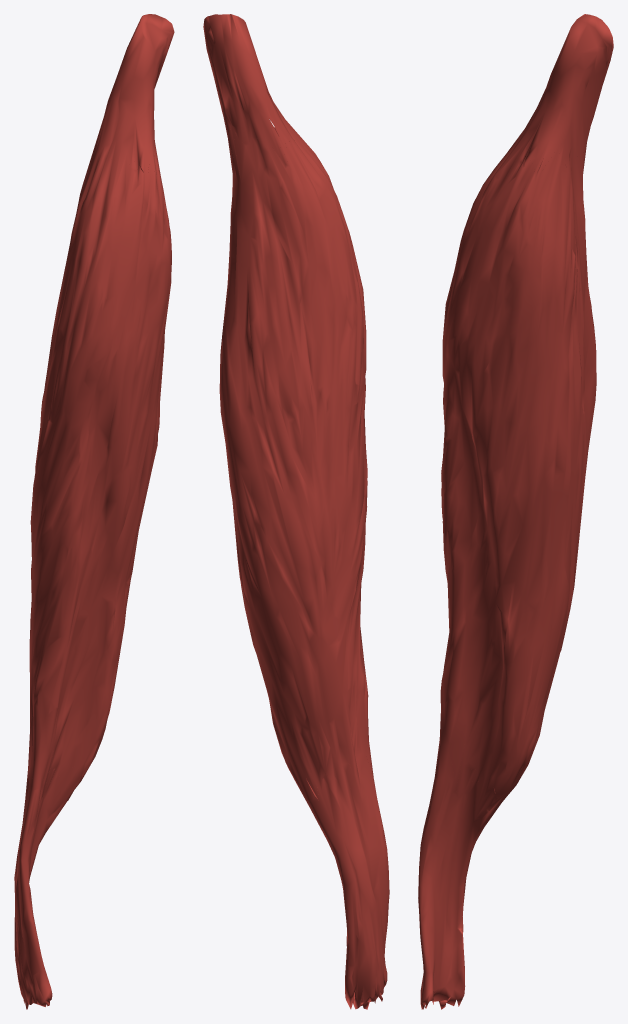
Rendered from musculos-long-head-of-biceps-femoris-r.glb.
3 renders of one model, left to right at view 1: azimuth 30°, elevation 25°; view 2: azimuth 150°, elevation 25°; view 3: azimuth 330°, elevation 25°, orthographic. The views are drawn at different scales.
Parts seen in each view (by area): view 1: Long head of biceps femoris.r; view 2: Long head of biceps femoris.r; view 3: Long head of biceps femoris.r.
Boxes of the visible parts, box(x1,y1,x2,y2) form: Long head of biceps femoris.r: box(14, 14, 174, 1009); Long head of biceps femoris.r: box(203, 14, 389, 1009); Long head of biceps femoris.r: box(418, 14, 613, 1009).
Bounding box in the file's own units: 0.0779 × 0.4254 × 0.0558.
